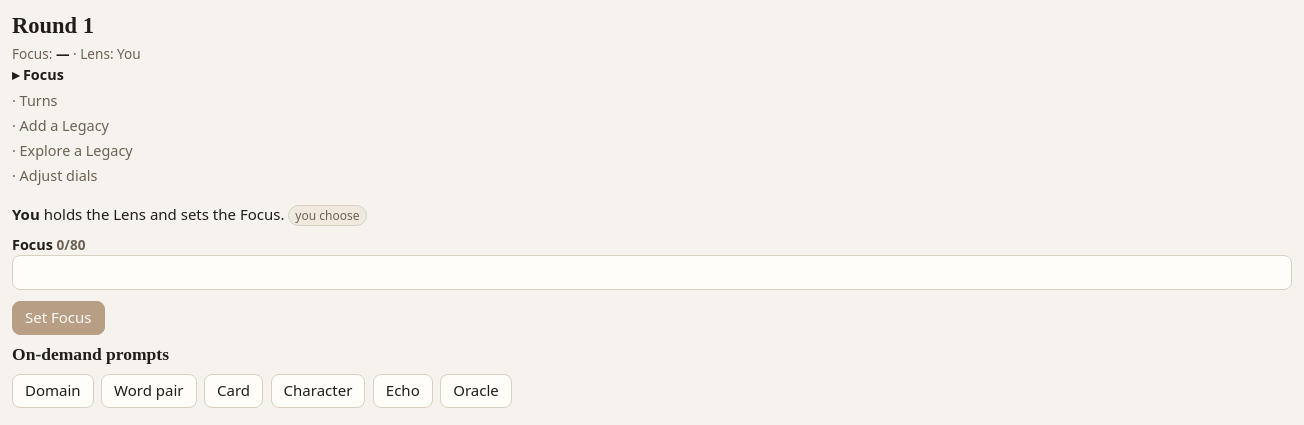
TurnPanel: round start and Focus › player writes the Focus when focus.source is off
This screenshot has width=1304, height=425.
expect the text "you choose" is shown: met, box [288, 205, 366, 226]
expect the button "Set Focus" is disabled: met, box [12, 301, 104, 335]
In the field labelled "Focus 0/80": (652, 273) [12, 255, 1292, 290], type "Who controls the crossings"
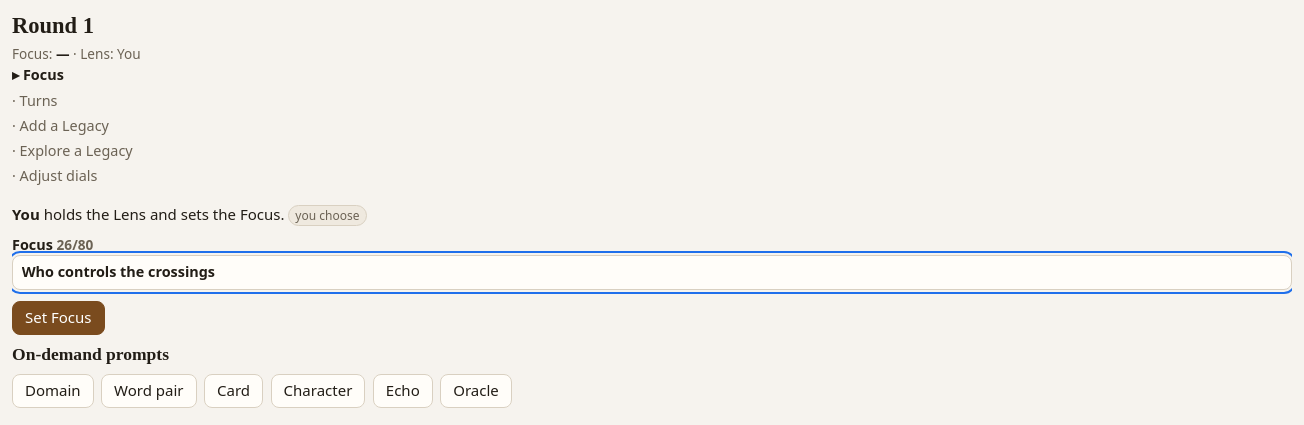
Click the button "Set Focus": (58, 318) [12, 301, 104, 335]
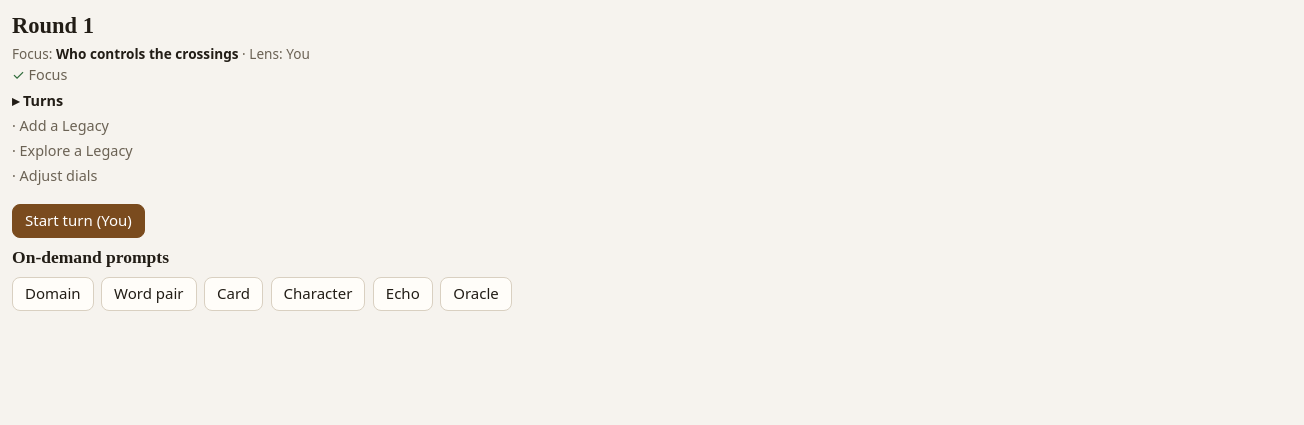
expect the text "Who controls the crossings" is shown: met, box [56, 44, 239, 62]
